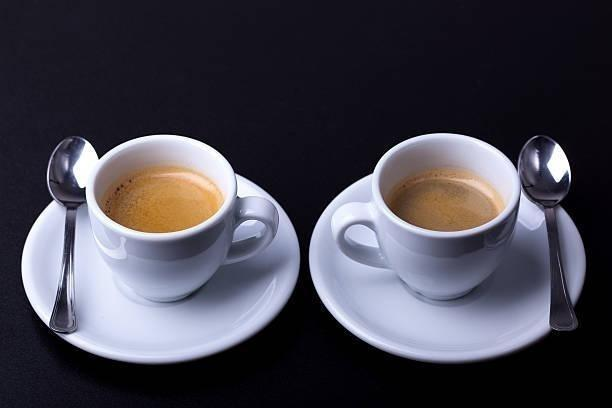cup-handle: (85, 133, 280, 303), (330, 131, 523, 302)
